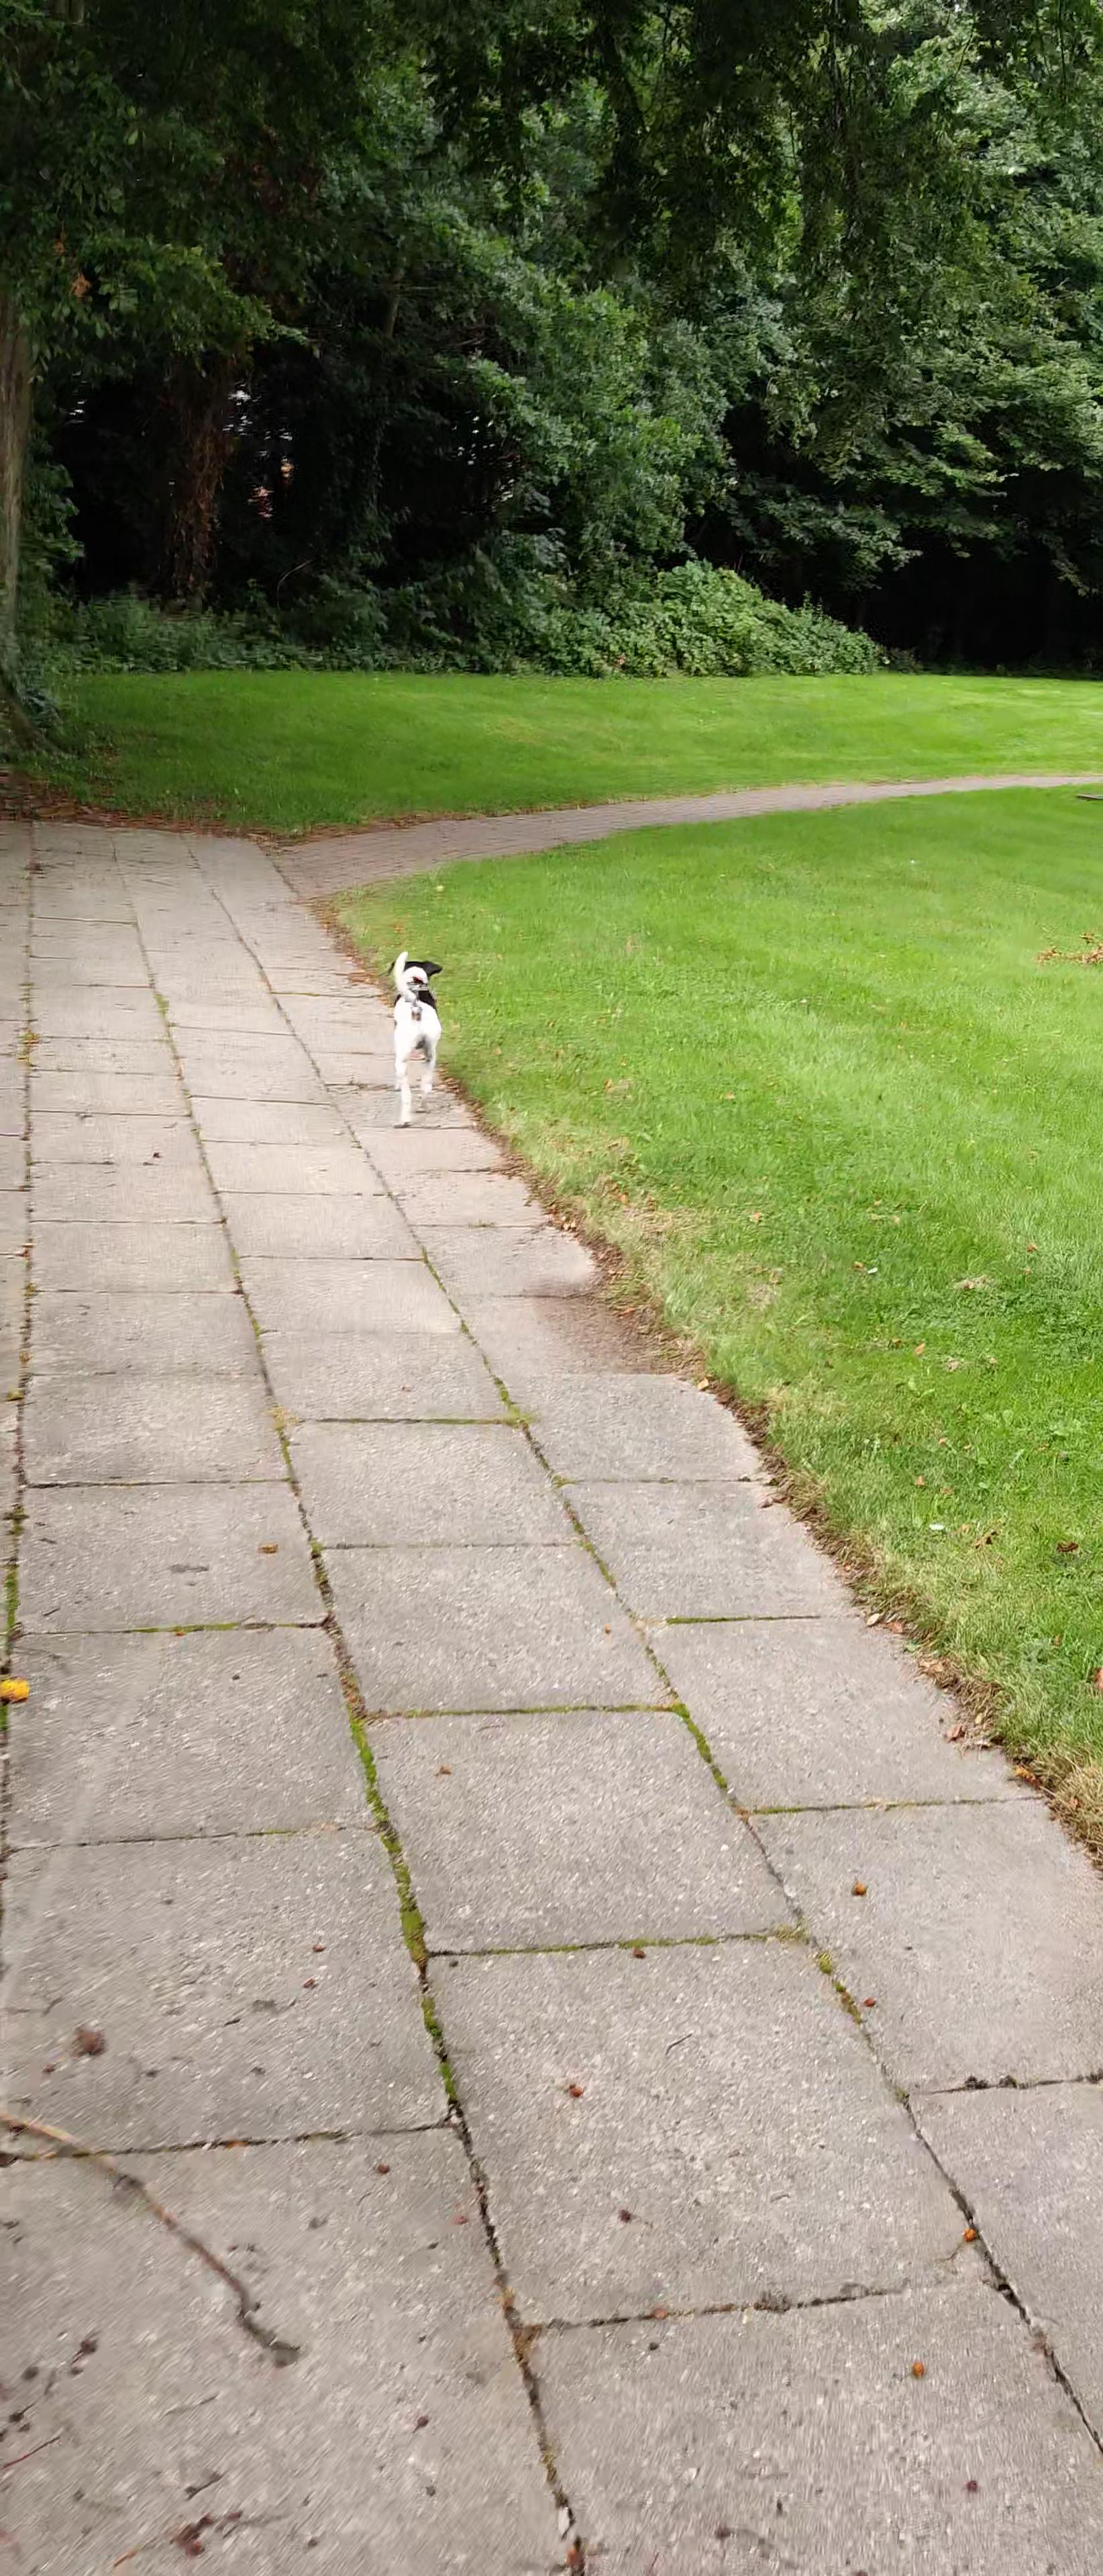Dog: (383, 946, 454, 1130)
